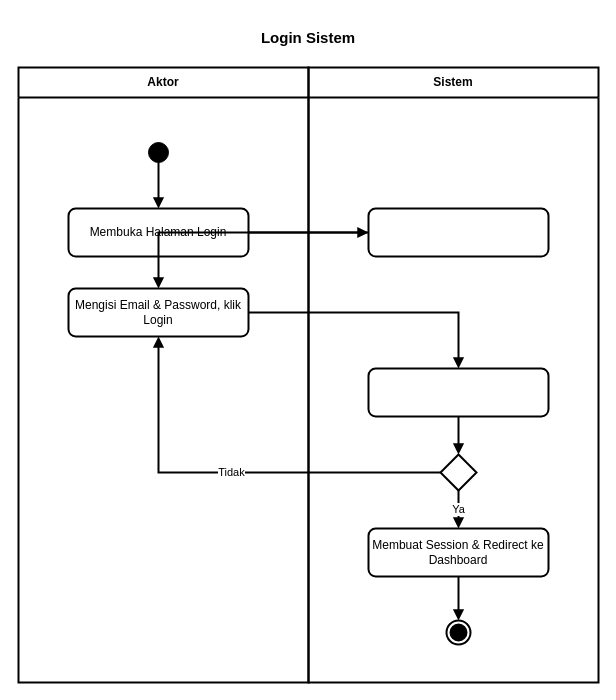
The diagram is 616 pixels wide and 700 high, and some of its shapes have lost their labels. The shapes that lost their labels are listed below. From the top down, each one's centre as x and y in pixels, then its label:
the point at 458,232: Menampilkan Form Login
the point at 458,392: Memvalidasi Kredensial
